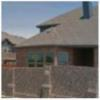chimneys: (82, 1, 94, 20)
